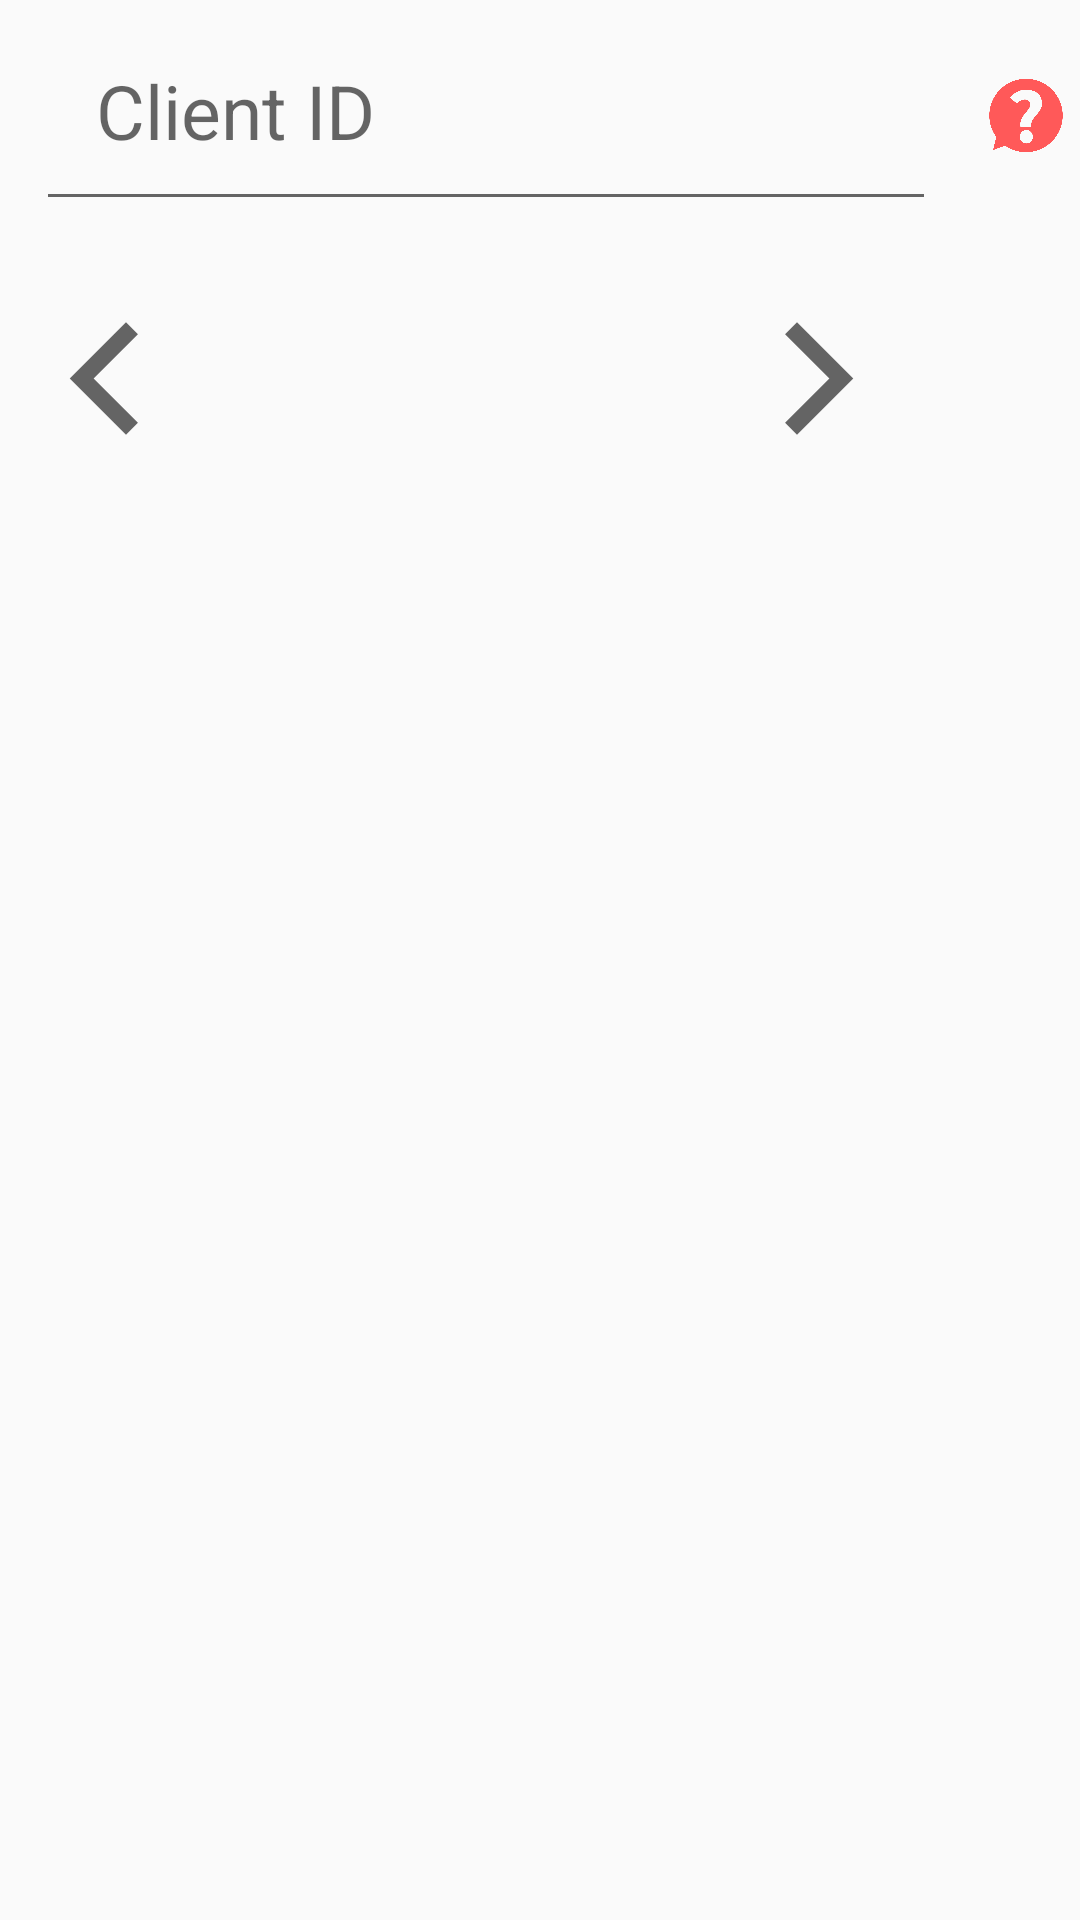

Where icons sit on this 1080*1920 app screen, as (x1, y1, x2, y2):
question: (989, 79, 1063, 152)
